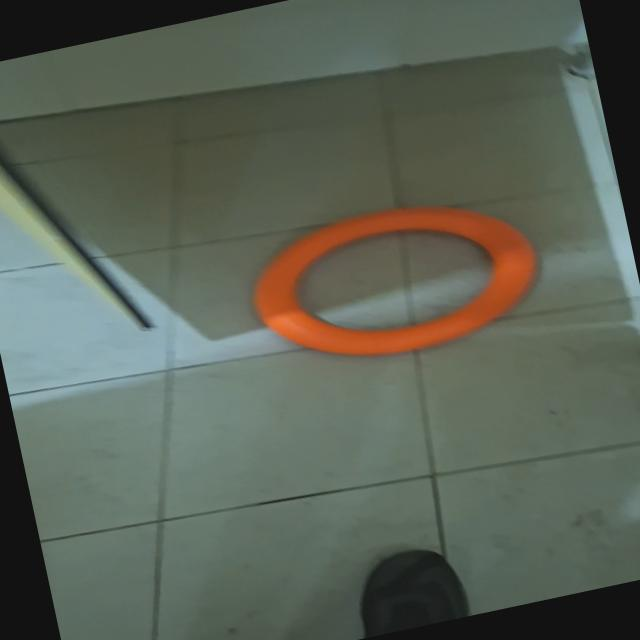note: (238, 178, 553, 382)
